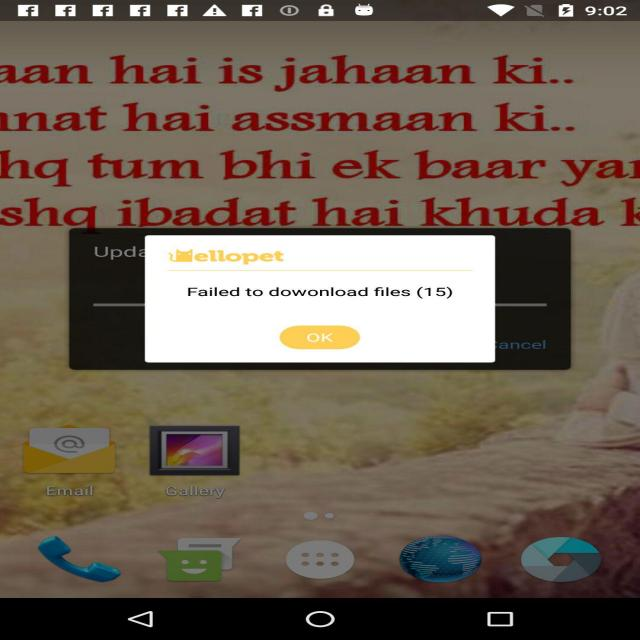icon: (42, 419, 195, 470)
text: (6, 47, 628, 243), (165, 252, 434, 304)
